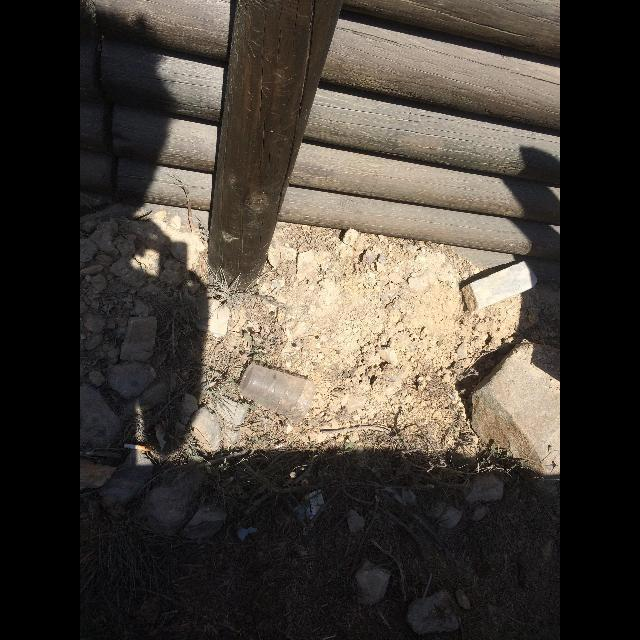Plastic: (240, 363, 314, 422)
